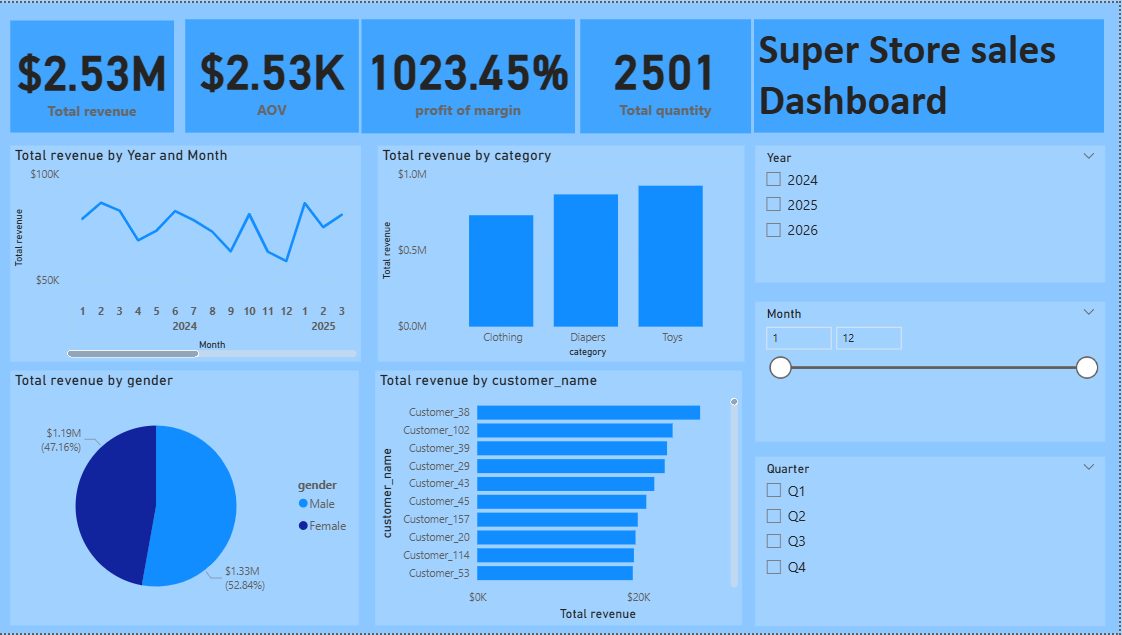

This screenshot's page, from the dashboard's own definition file:
{"tool":"powerbi","page":{"name":"Page 1","canvas":[1280,720],"ordinal":0},"visuals":[{"type":"card","fields":{"Values":["Factsales.Total revenue"]},"box":[12.2,19.6,187.1,128.4],"z":0},{"type":"card","fields":{"Values":["Factsales.AOV"]},"box":[212.8,18.3,198.1,129.6],"z":1000},{"type":"card","fields":{"Values":["Factsales.profit of margin"]},"box":[413.8,18.8,243.8,130],"z":2000},{"type":"card","fields":{"Values":["Factsales.Total quantity"]},"box":[663.8,18.8,195,130],"z":3000},{"type":"lineChart","fields":{"Category":["Dim calender.Year","Dim calender.Month"],"Y":["Factsales.Total revenue"]},"box":[12.2,162.6,401.1,247],"z":4000},{"type":"clusteredColumnChart","fields":{"Category":["Dim product.category"],"Y":["Factsales.Total revenue"]},"box":[432.9,162.6,419.4,247],"z":5000},{"type":"pieChart","fields":{"Y":["Factsales.Total revenue"],"Category":["Dim customer.gender"]},"box":[12.2,420.7,398.6,291],"z":6000},{"type":"clusteredBarChart","fields":{"Category":["Dim customer.customer_name"],"Y":["Factsales.Total revenue"]},"box":[430.4,420.7,419.4,291],"z":7000},{"type":"textbox","box":[863.3,18.3,399.9,129.6],"z":8000},{"type":"slicer","fields":{"Values":["Dim calender.Year"]},"box":[864.5,162.6,399.9,156.5],"z":9000},{"type":"slicer","fields":{"Values":["Dim calender.Month"]},"box":[864.5,341.2,399.9,159],"z":10000},{"type":"slicer","fields":{"Values":["Dim calender.Quarter"]},"box":[864.5,518.5,399.9,193.2],"z":11000}]}

Visuals, with their boxes in screenshot pixels (x1, y1, x2, y2), scaled from the page's 1280x720 canvas onto the 1122x635 screenshot:
card - Factsales.Total revenue: [11,17,175,131]
card - Factsales.AOV: [187,16,360,130]
card - Factsales.profit of margin: [363,17,576,131]
card - Factsales.Total quantity: [582,17,753,131]
lineChart - Dim calender.Year x Dim calender.Month: [11,143,362,361]
clusteredColumnChart - Dim product.category x Factsales.Total revenue: [379,143,747,361]
pieChart - Factsales.Total revenue x Dim customer.gender: [11,371,360,628]
clusteredBarChart - Dim customer.customer_name x Factsales.Total revenue: [377,371,745,628]
textbox: [757,16,1107,130]
slicer - Dim calender.Year: [758,143,1108,281]
slicer - Dim calender.Month: [758,301,1108,441]
slicer - Dim calender.Quarter: [758,457,1108,628]
